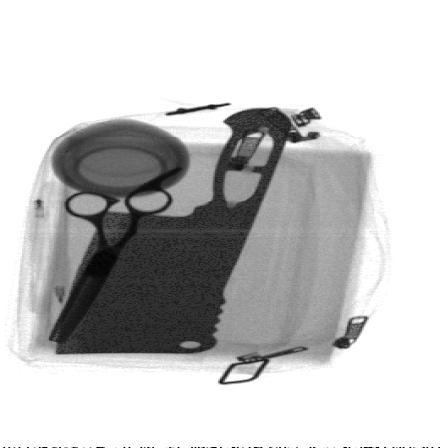Knife: (51, 106, 294, 356)
Scissors: (47, 163, 184, 344)
